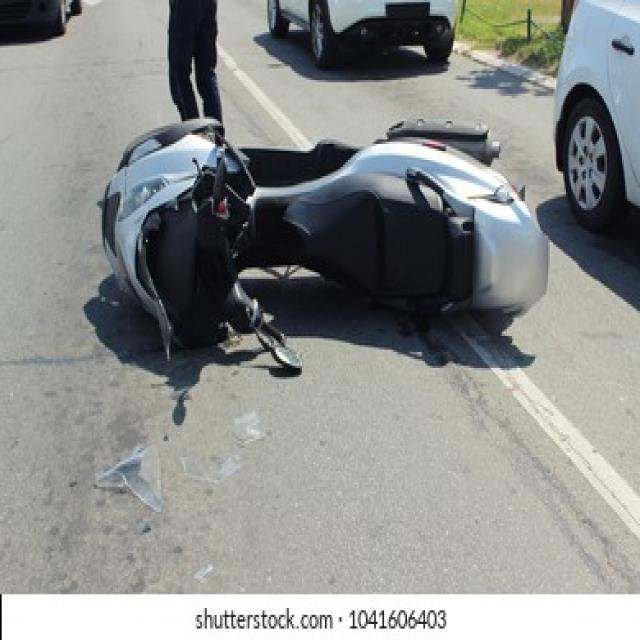accident: (101, 120, 547, 370)
